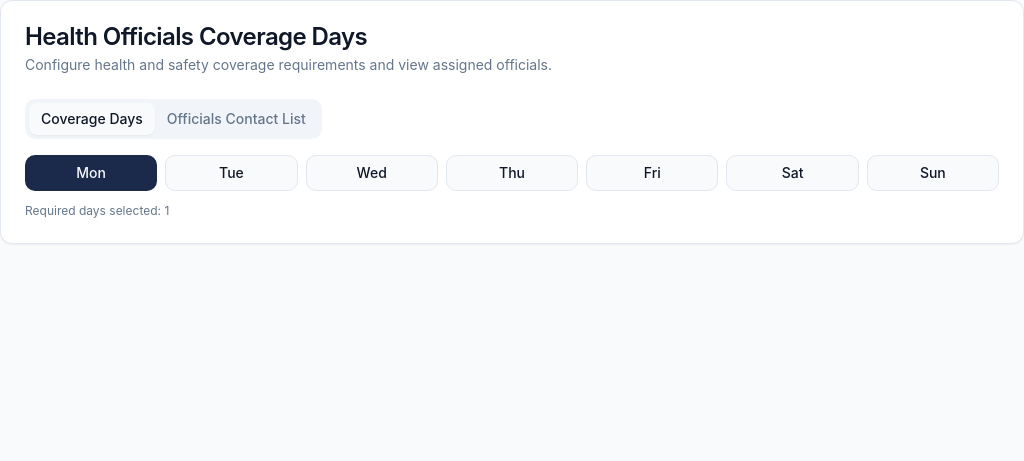
Test: HealthOfficialsCoverageSettings › shows safety officials contact list with area and contact details on second tab
Press the mouse on the tab "Officials Contact List" at (236, 119), box [155,103,318,135]
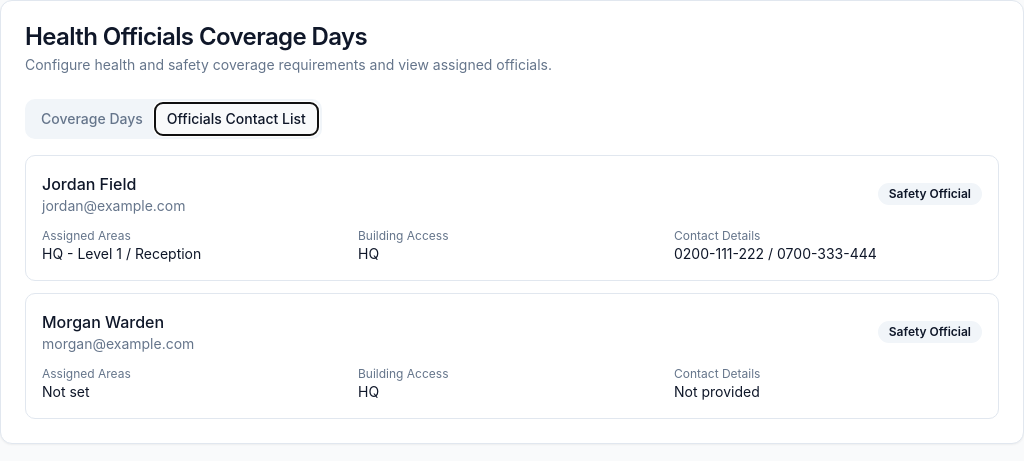
expect the text "Jordan Field" is shown: met, box [42,174,136,194]
expect the text "Morgan Warden" is shown: met, box [42,312,164,332]
expect the text "jordan@example.com" is shown: met, box [42,196,186,216]
